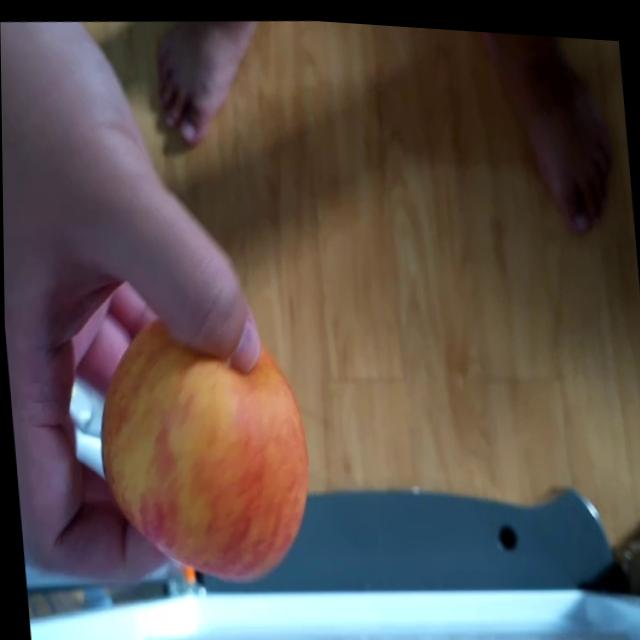apple: (80, 300, 318, 590)
